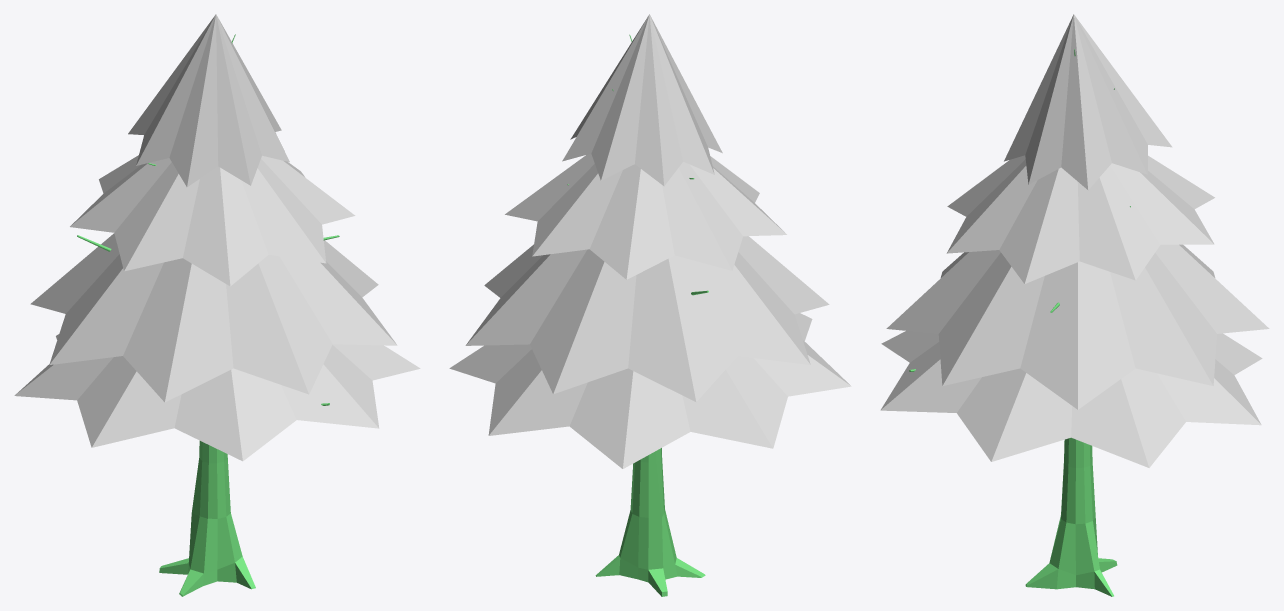
Rendered from alpine_tree_3.gltf.
The picture shows the model from 3 angles, left to right: view 1: azimuth 30°, elevation 25°; view 2: azimuth 150°, elevation 25°; view 3: azimuth 270°, elevation 25°; orthographic projection.
Parts seen in each view (by area): view 1: PineLeaves.003, PineLeaves.001, PineLeaves.004, PineLeaves, Trunk-col; view 2: PineLeaves.003, PineLeaves.004, PineLeaves.001, PineLeaves, Trunk-col; view 3: PineLeaves.003, PineLeaves.004, PineLeaves.001, PineLeaves, Trunk-col.
Part boxes in pixels (x1,y1,x2,y2): PineLeaves.003: (30, 233, 397, 402); PineLeaves.001: (70, 155, 355, 286); PineLeaves.004: (14, 334, 420, 461); PineLeaves: (128, 14, 289, 187); Trunk-col: (159, 441, 255, 596); PineLeaves.003: (465, 236, 829, 402); PineLeaves.004: (449, 313, 851, 468); PineLeaves.001: (505, 153, 786, 279); PineLeaves: (562, 14, 722, 186); Trunk-col: (595, 448, 705, 596); PineLeaves.003: (886, 244, 1269, 409); PineLeaves.004: (880, 331, 1262, 467); PineLeaves.001: (946, 155, 1214, 283); PineLeaves: (1004, 14, 1172, 189); Trunk-col: (1025, 437, 1117, 596).
Size of the model in its own units: 8.36 by 13.66 by 8.49.
